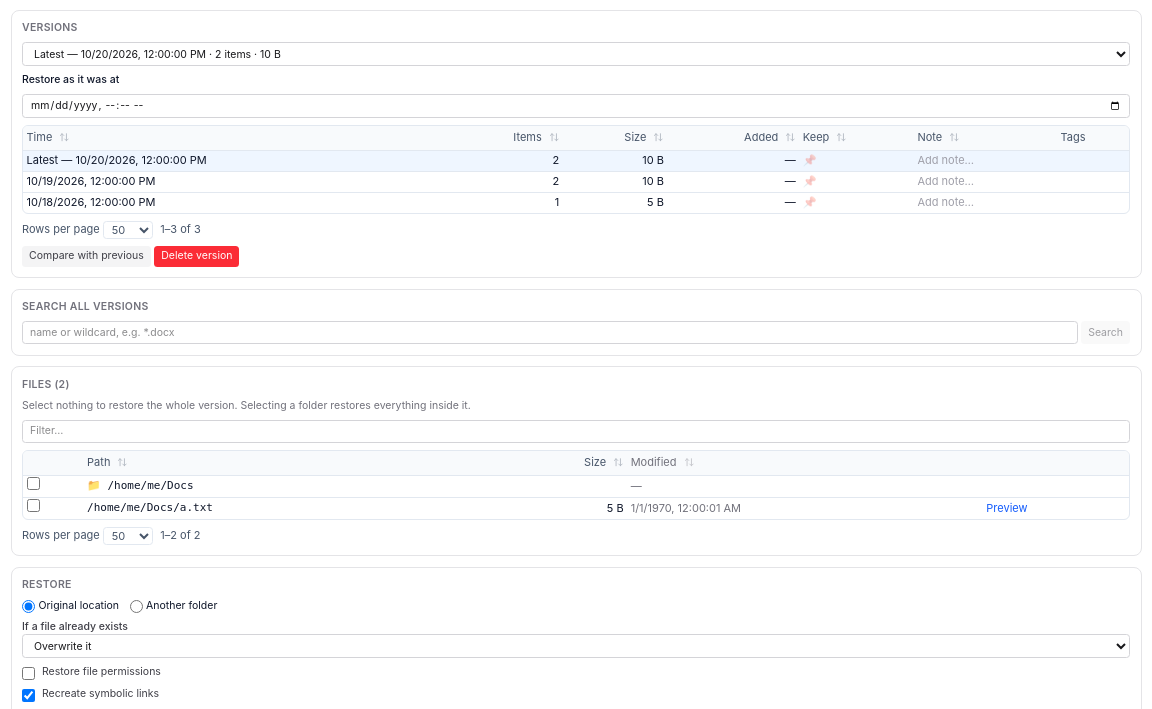
Test case: restore view › restores as it was at a time and says which version that is
Expected: the element with test id "backup-file-list" shows "a.txt", [87,501,213,514]
Type "2026-10-19T23:00" into the field with test id "restore-as-of-input".
click(576, 106); type("2026-10-19T23:00")  # box [22,94,1130,118]
(page scrolled)
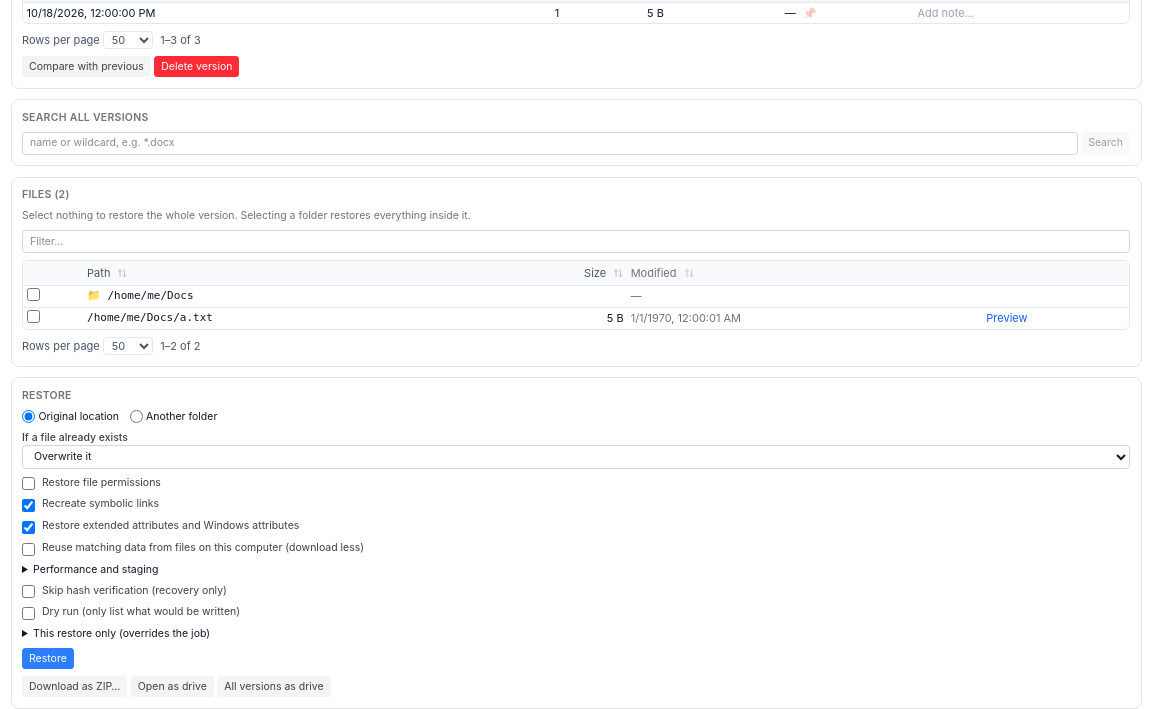
Click the button with test id "backup-restore-run".
click(48, 658)  # box [22,648,74,669]
(page scrolled)
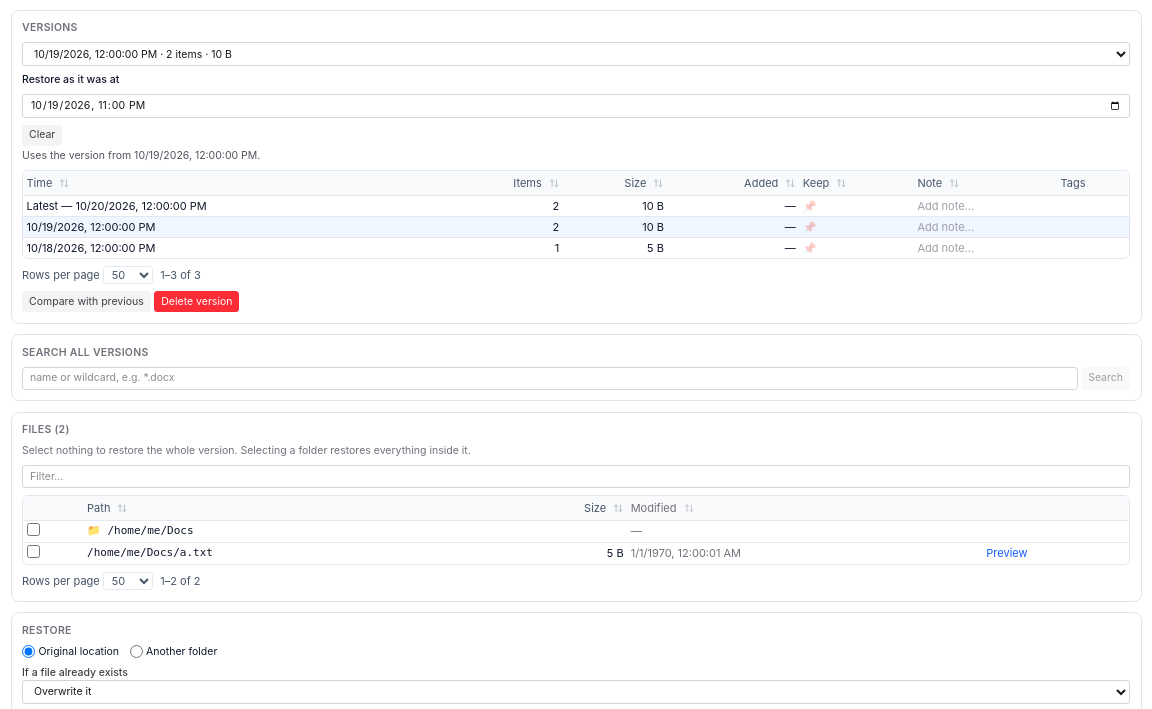
Note: Too early: no version.
Replace the text in the field with test id "restore-as-of-input" with "2020-01-01T00:00" at point(576, 106), box [22,94,1130,118]
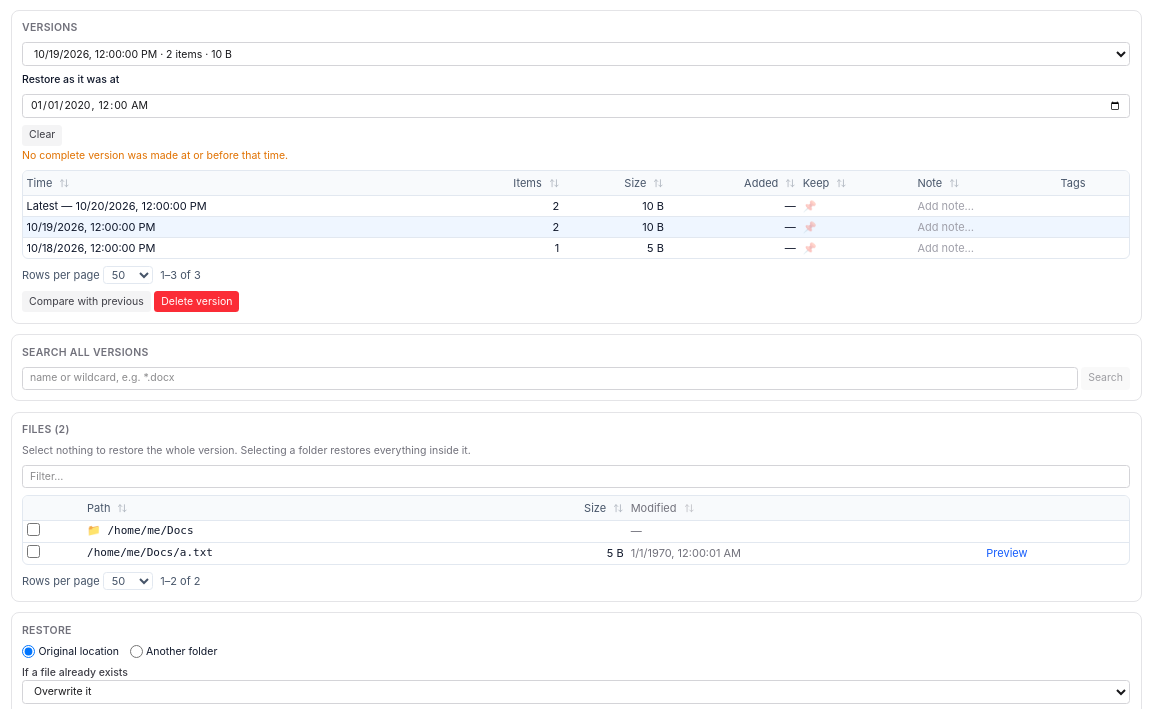
Expected: the text with test id "restore-as-of-result" shows "No complete version", [22,149,288,162]
